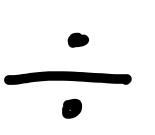div: (2, 33, 132, 122)
